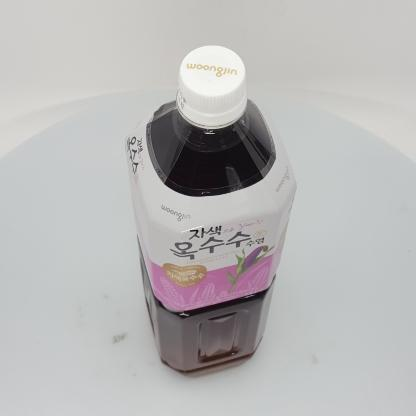----------1-5L: (125, 45, 297, 378)
